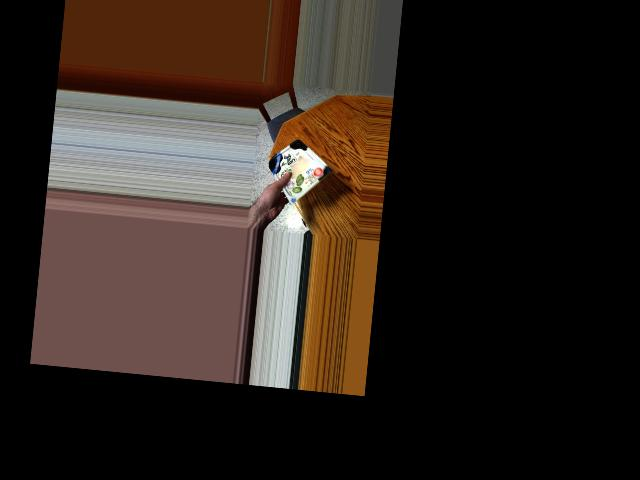cheese: (266, 142, 325, 195)
